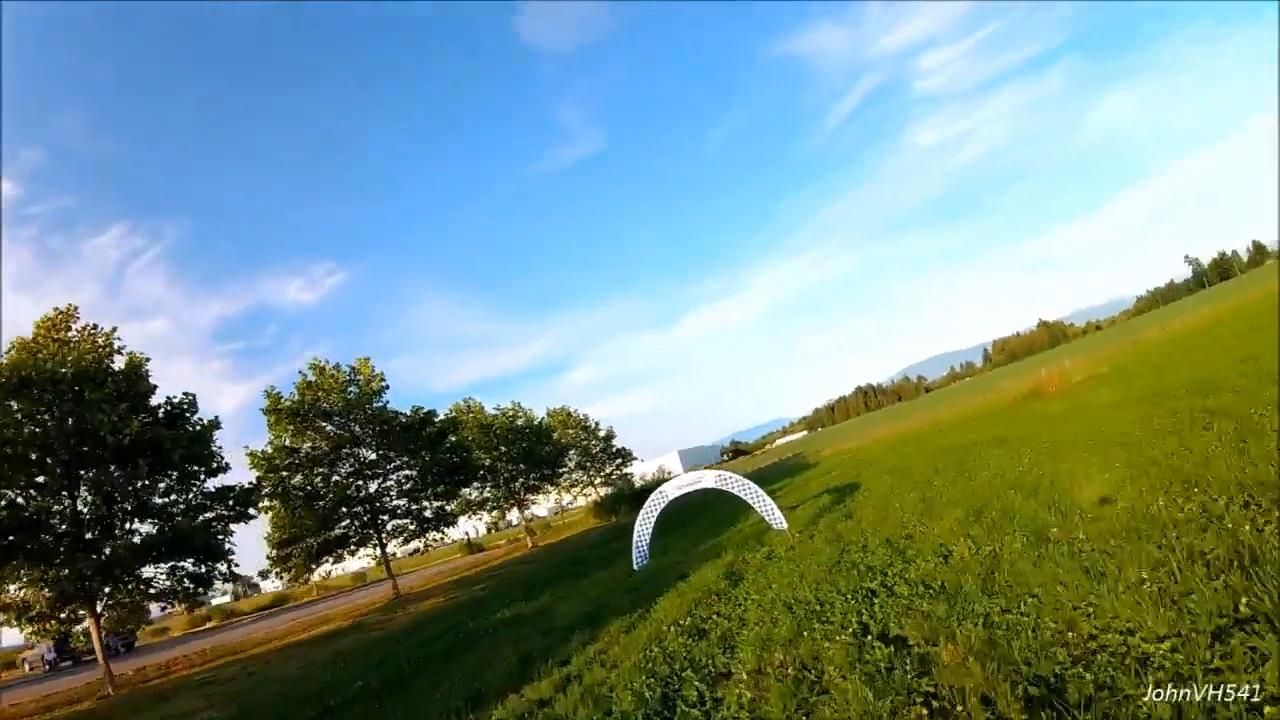gate: (632, 467, 790, 572)
